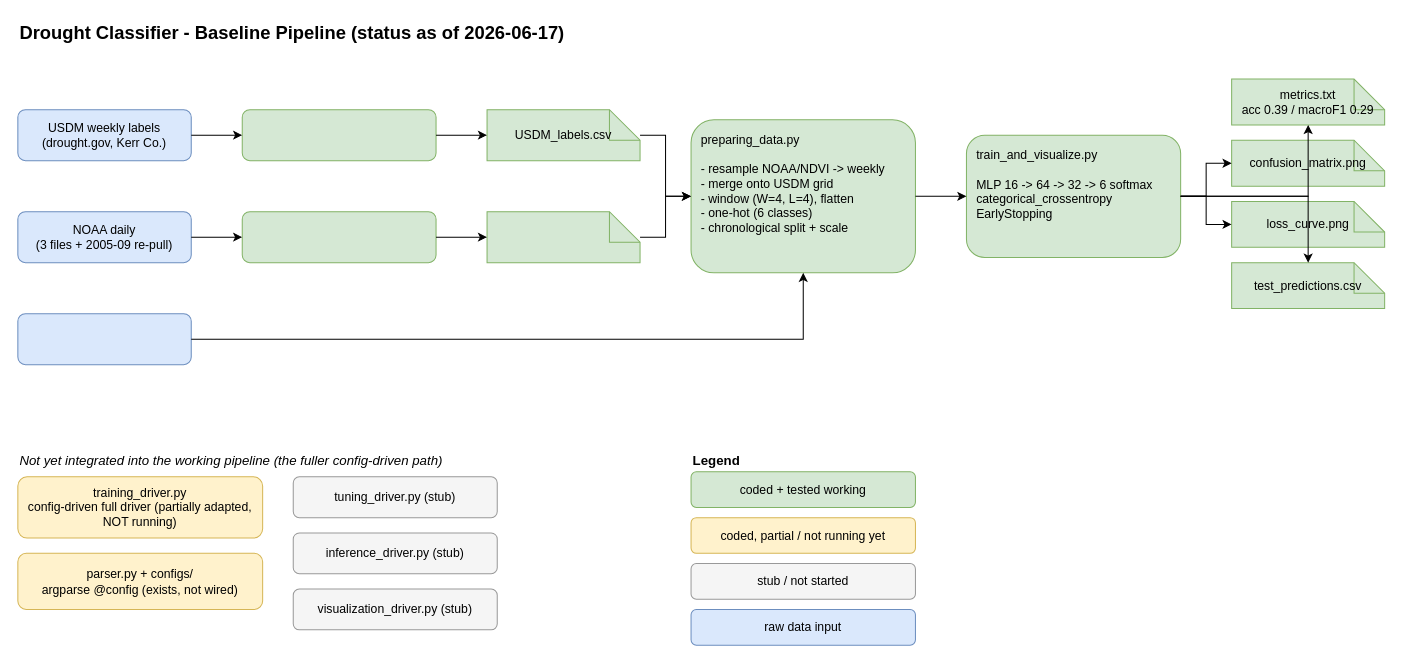
This 1403x663 diagram has some shape labels left out. The shapes that lost their labels are listed below. From the top down, each one's centre as x and y in pixels, then its label:
At (338,135): "relabel_usdm_labels.py None->no_drought, reindex 0-5".
At (338,237): "combine_noaa.py concat + dedup + UNIT FIX".
At (563,237): "NOAA_combined_2000-2026.csv".
At (104,339): "MODIS NDVI 16-day (to 2024)".
